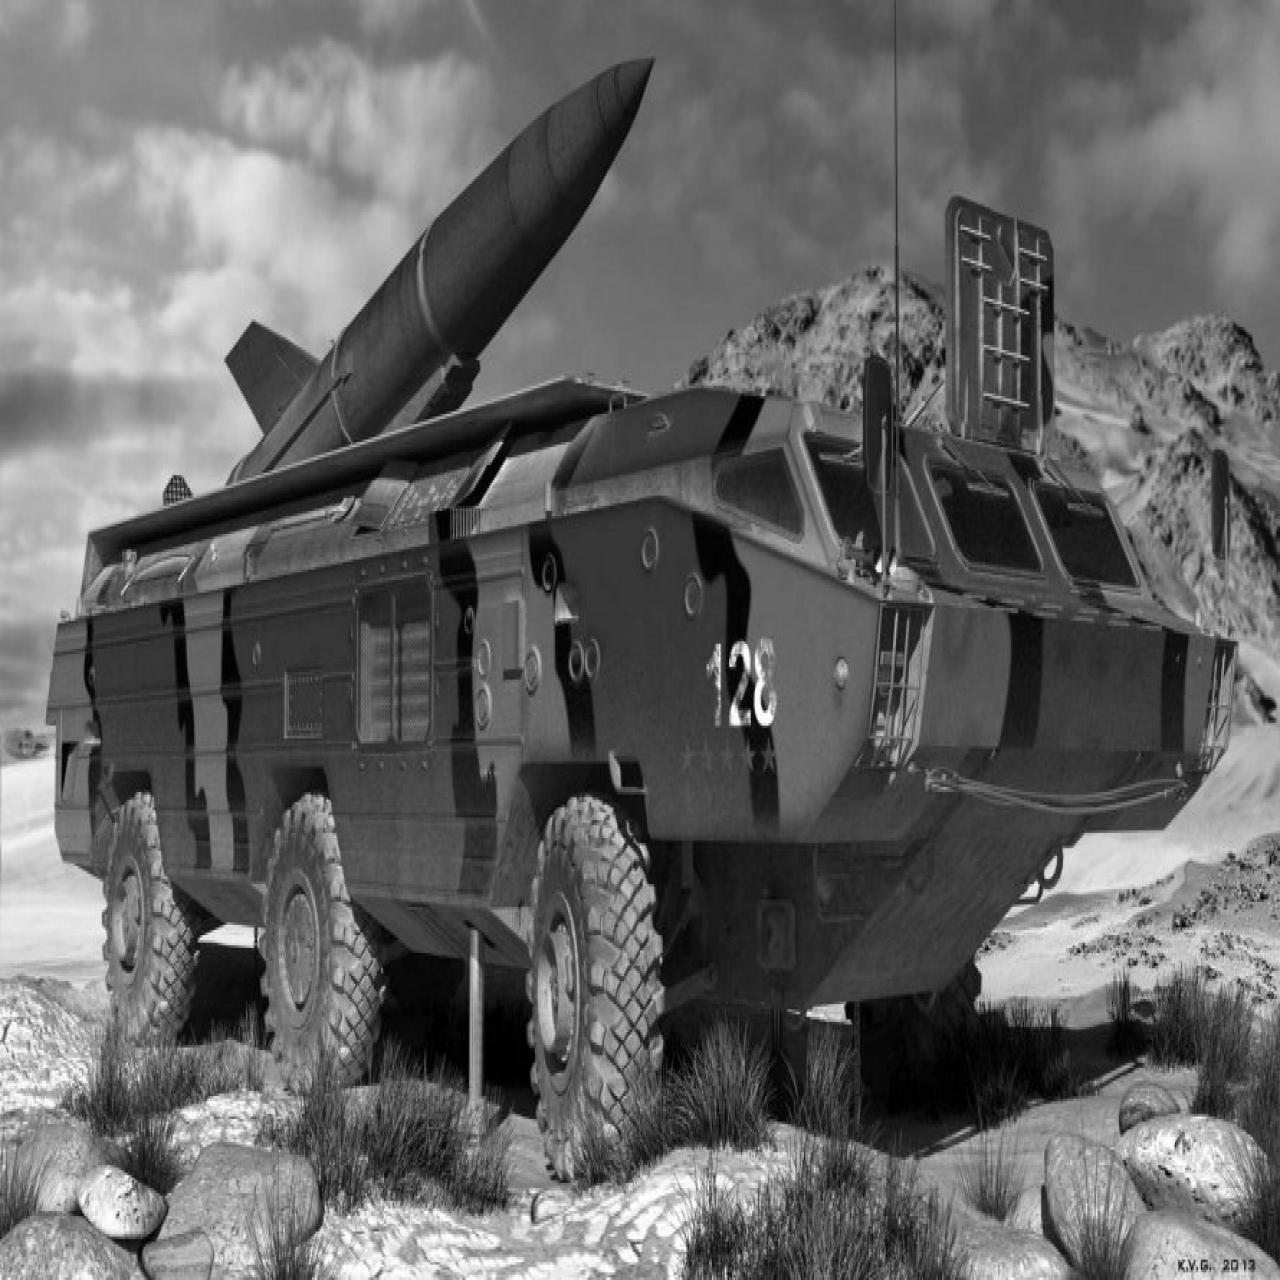MIL_Veh: (52, 53, 1241, 1121)
